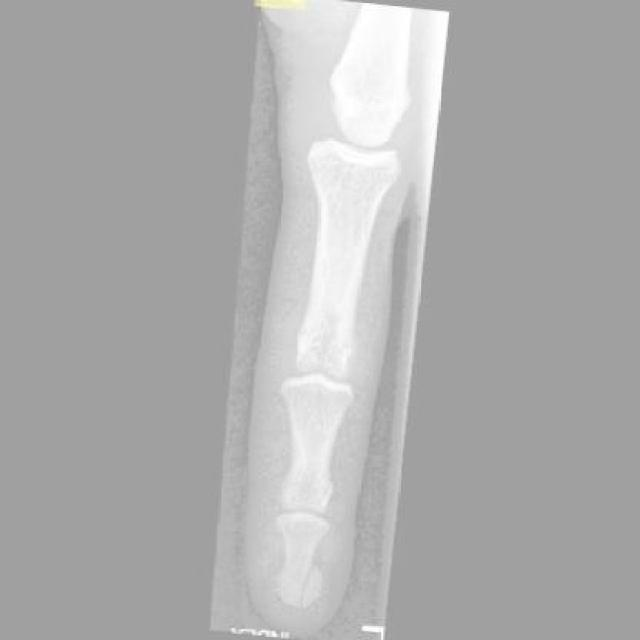Fracture: (277, 562, 326, 613)
